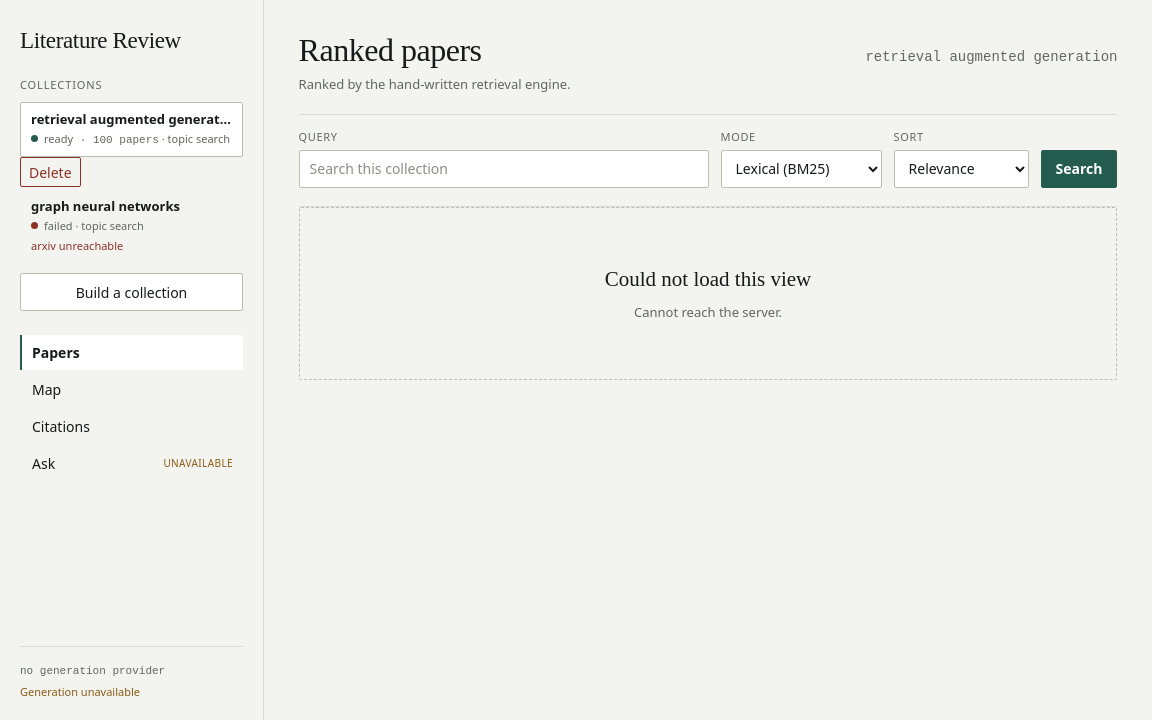
Test: app shell › lists every collection and switches the selected one
This screenshot has width=1152, height=720.
Click the button "graph neural networks" at [132, 226], box [20, 189, 243, 263]
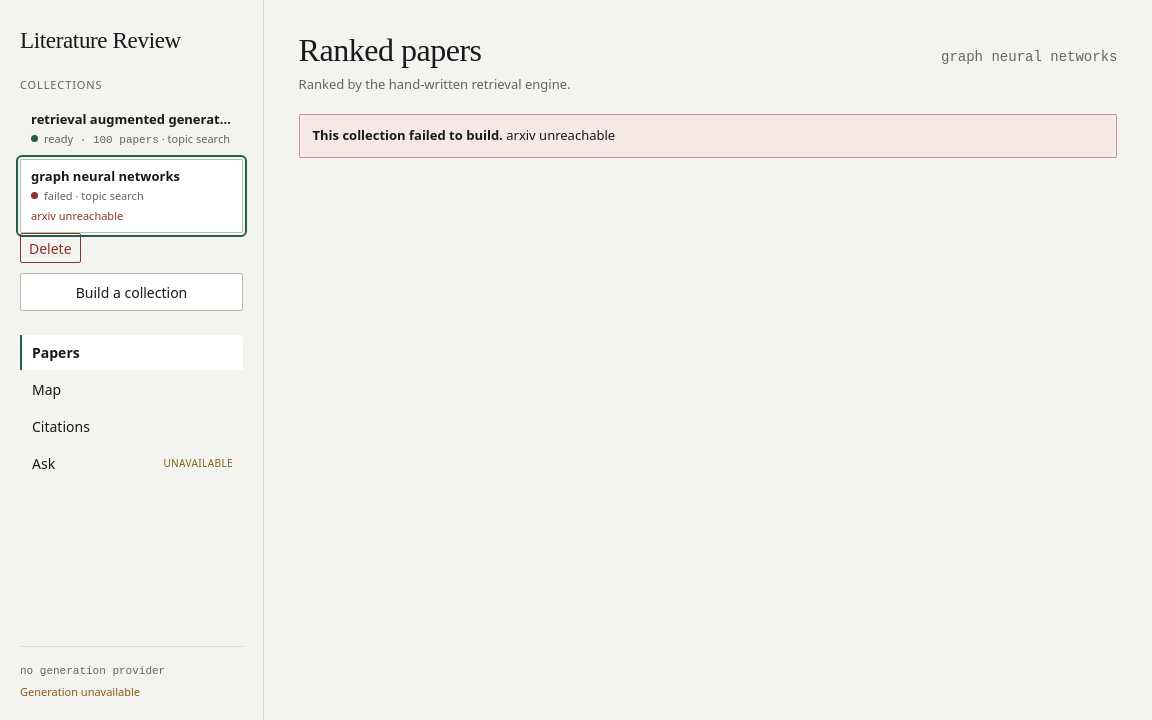
Expected: the button "graph neural networks" shows "failed", [20, 159, 243, 233]
Expected: the text with test id "collection-heading" reads "graph neural networks", [941, 49, 1117, 65]
